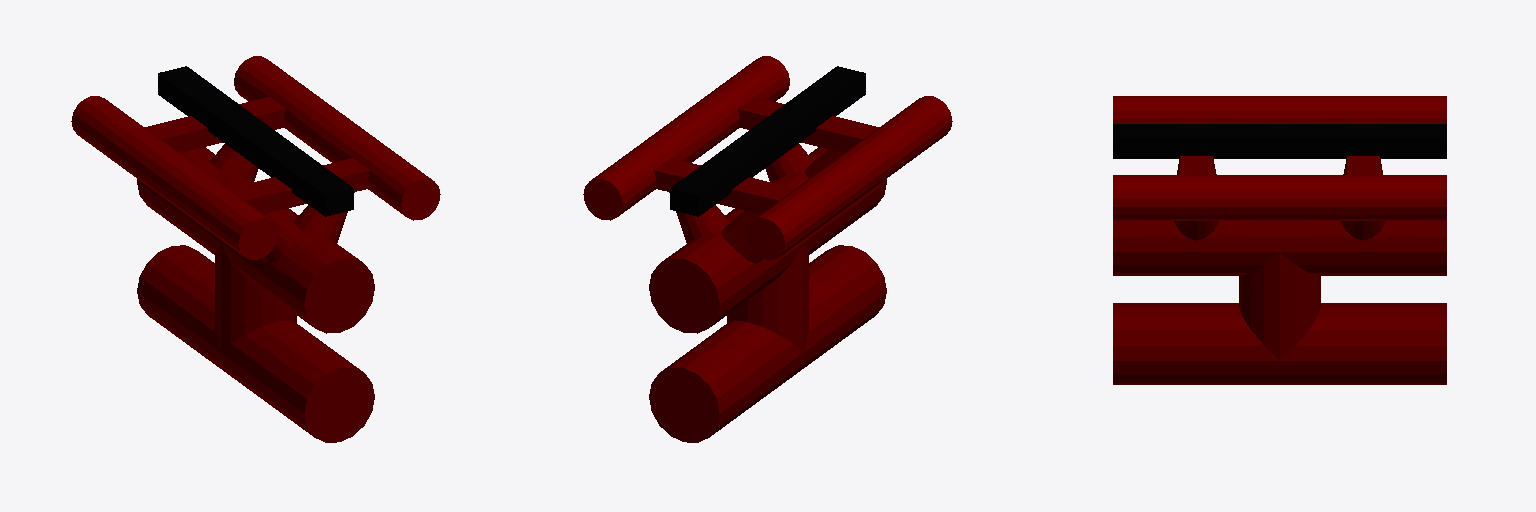
The model's file is intamindouble_lift.obj.
3 views of the same model, side by side, from view 1: azimuth 30°, elevation 25°; view 2: azimuth 150°, elevation 25°; view 3: azimuth 270°, elevation 25° (orthographic).
Size of the model in its own units: 1.04 by 1.24 by 1.5.